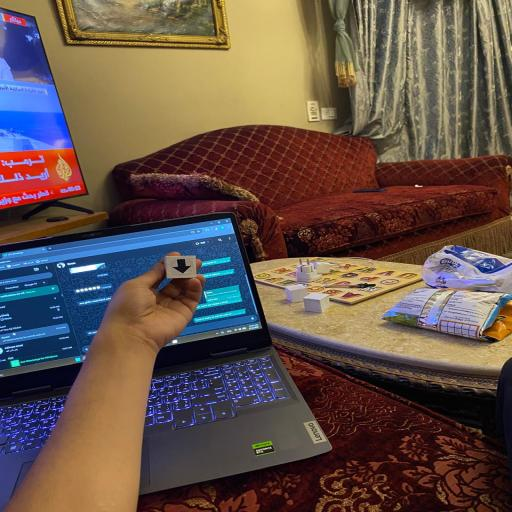Down: (162, 254, 198, 280)
